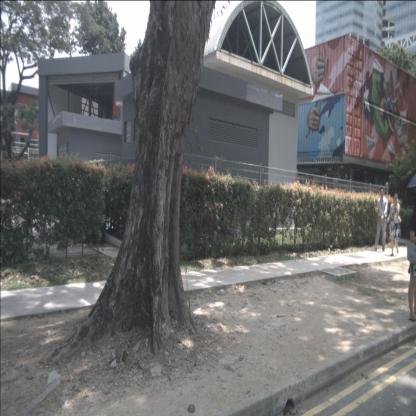human-pedestrian-adult: (406, 198, 416, 322), (372, 187, 388, 252), (386, 193, 402, 257)
